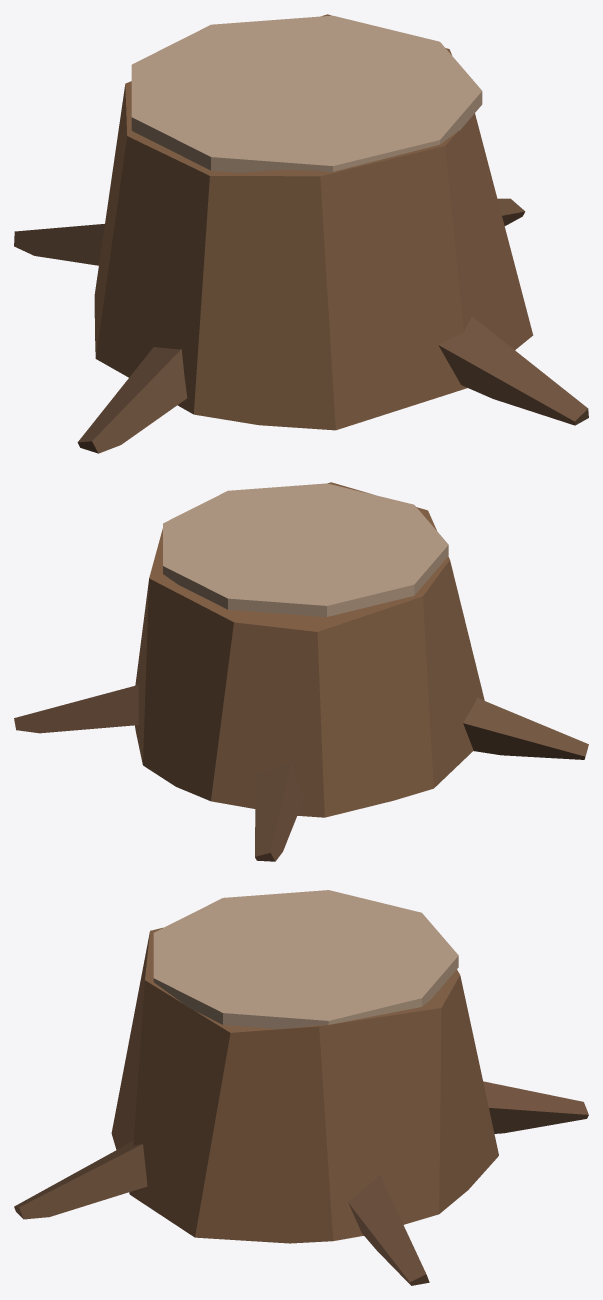
Rendered from stump.glb.
The picture shows the model from 3 angles, top to bottom: view 1: azimuth 30°, elevation 25°; view 2: azimuth 150°, elevation 25°; view 3: azimuth 270°, elevation 25°; orthographic projection. The views are drawn at different scales.
Visible parts, largest first — view 1: stump; view 2: stump; view 3: stump.
Boxes of the visible parts, x1=… form: stump: x1=14, y1=14, x2=588, y2=453; stump: x1=14, y1=482, x2=588, y2=861; stump: x1=14, y1=890, x2=588, y2=1285.
Bounding box in the file's own units: 1.32 × 0.53 × 1.32.
